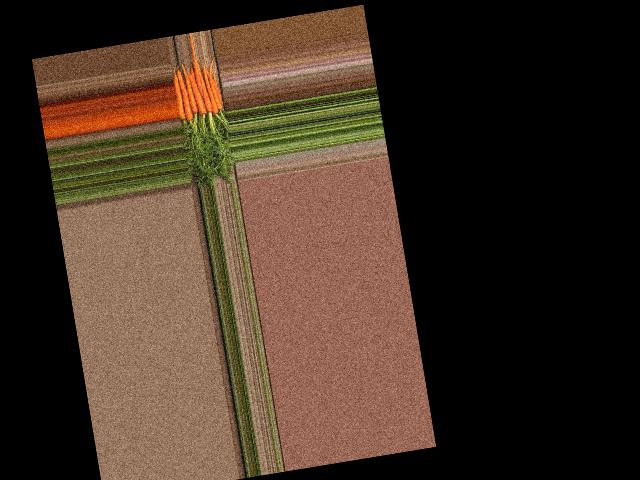carrot: (171, 69, 188, 122)
